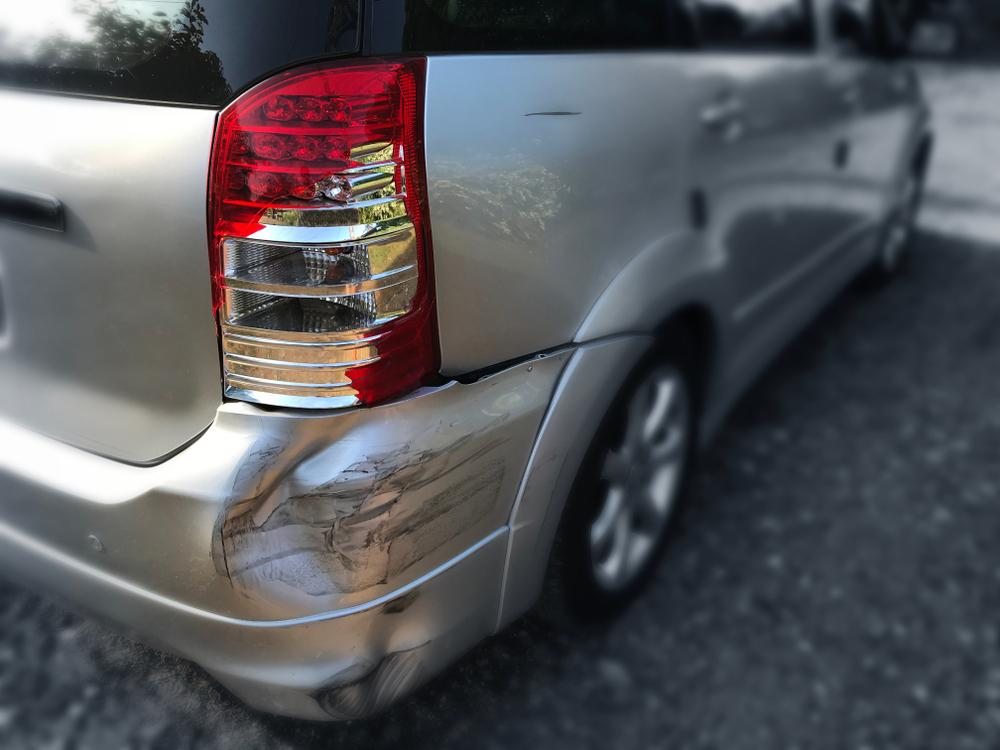dent: (220, 407, 418, 603), (320, 594, 427, 719)
lamp broken: (207, 54, 442, 411)
scratch: (363, 425, 509, 589)
